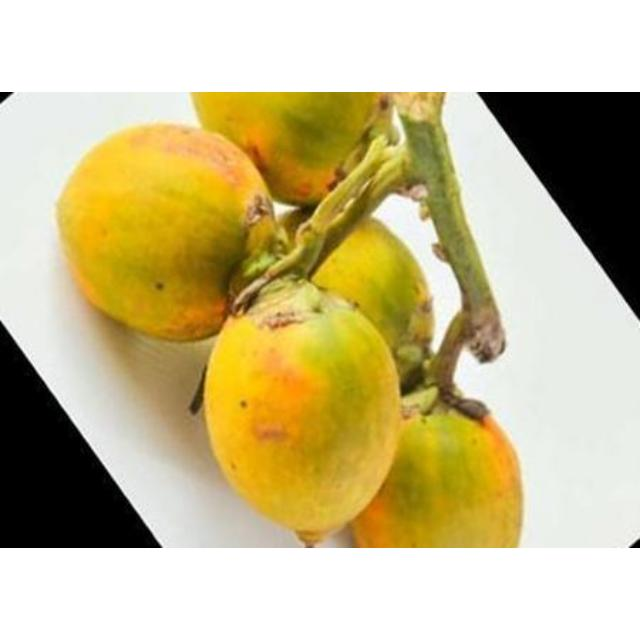good: (195, 268, 405, 547), (53, 123, 273, 344), (344, 411, 525, 547), (186, 92, 381, 207)
